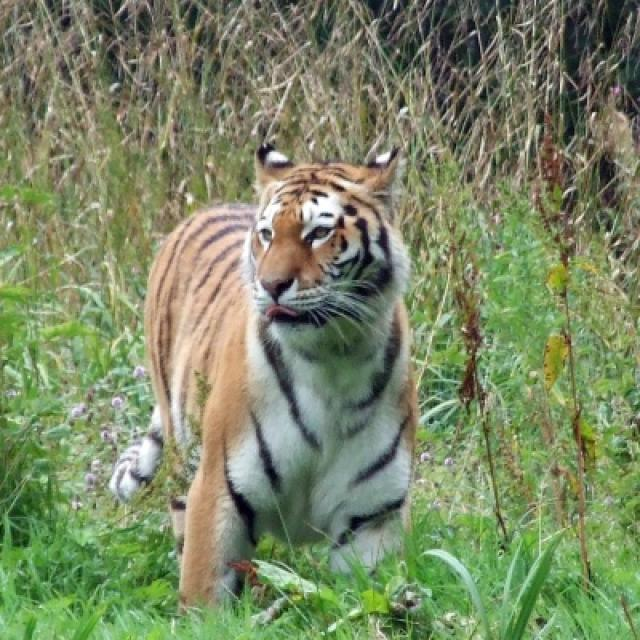Tiger: (115, 142, 416, 603)
